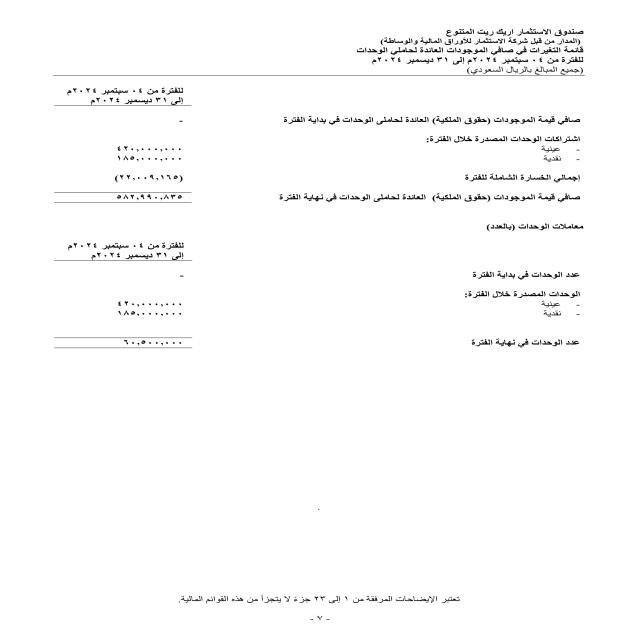financial_sheets: (489, 45, 587, 59)
table: (31, 78, 186, 369)
